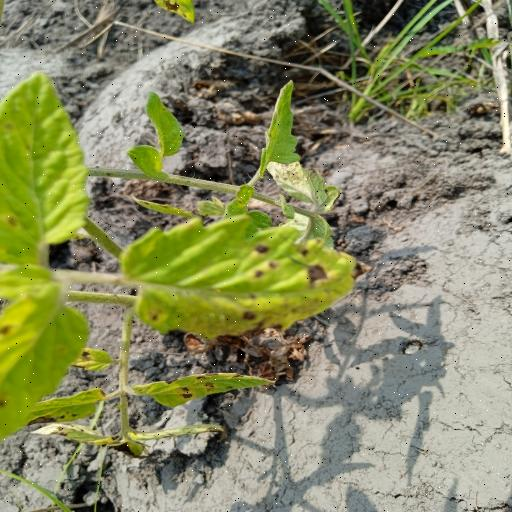Tomato_Brown_Spots: (109, 207, 378, 345)
